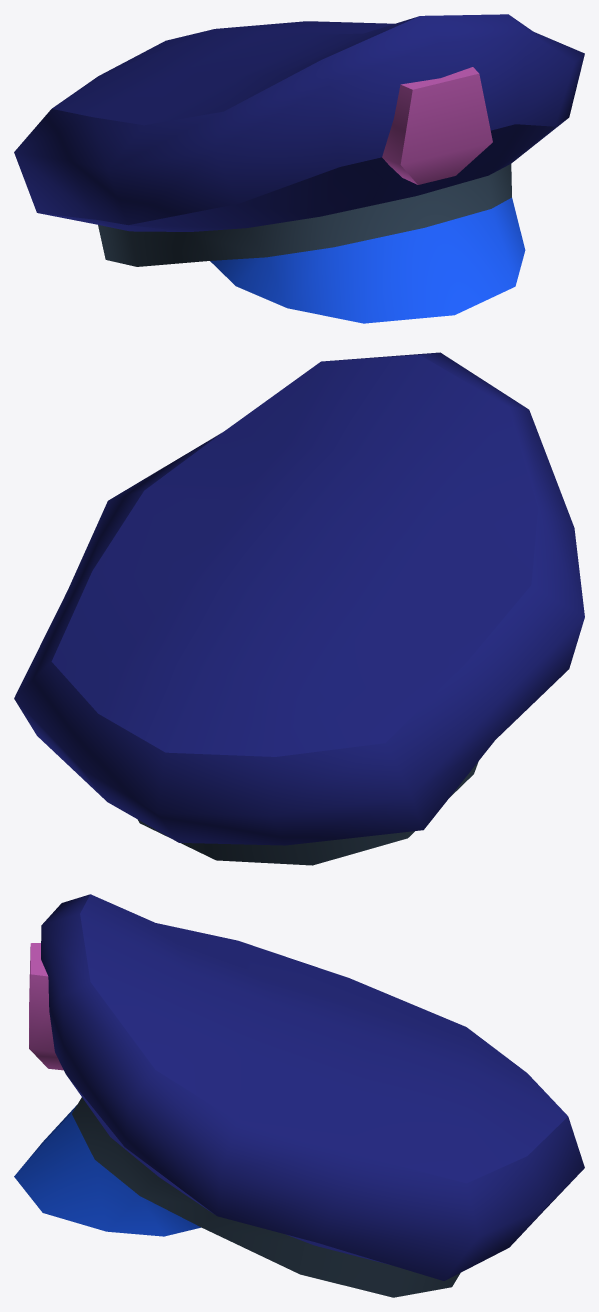
Rendered from Cop_hat.fbx.
3 renders of one model, top to bottom at view 1: azimuth 30°, elevation 25°; view 2: azimuth 150°, elevation 25°; view 3: azimuth 270°, elevation 25°, orthographic. The views are drawn at different scales.
Visible parts, largest first — view 1: Cop_hat_01; view 2: Cop_hat_01; view 3: Cop_hat_01.
Part boxes in pixels (<box>): Cop_hat_01: <box>14,14,584,323</box>; Cop_hat_01: <box>14,352,584,865</box>; Cop_hat_01: <box>14,894,584,1297</box>.
Bounding box in the file's own units: 79.34 × 56.57 × 85.78.
